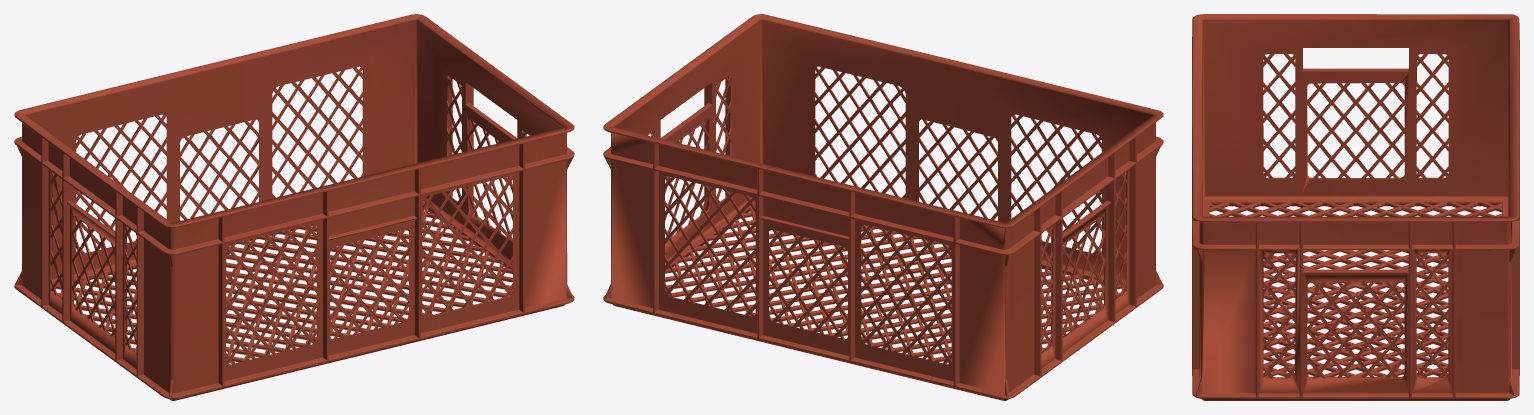
The model's file is crate_red.glb.
The picture shows the model from 3 angles, left to right: view 1: azimuth 30°, elevation 25°; view 2: azimuth 150°, elevation 25°; view 3: azimuth 270°, elevation 25°; orthographic projection. The views are drawn at different scales.
Visible parts, largest first — view 1: crate_red_a01; view 2: crate_red_a01; view 3: crate_red_a01.
Boxes of the visible parts, x1=… form: crate_red_a01: x1=14, y1=14, x2=574, y2=400; crate_red_a01: x1=603, y1=14, x2=1163, y2=400; crate_red_a01: x1=1192, y1=14, x2=1519, y2=400.
Size of the model in its own units: 0.6051 by 0.2532 by 0.4051.
Materials: 1 (1 with a texture image).
